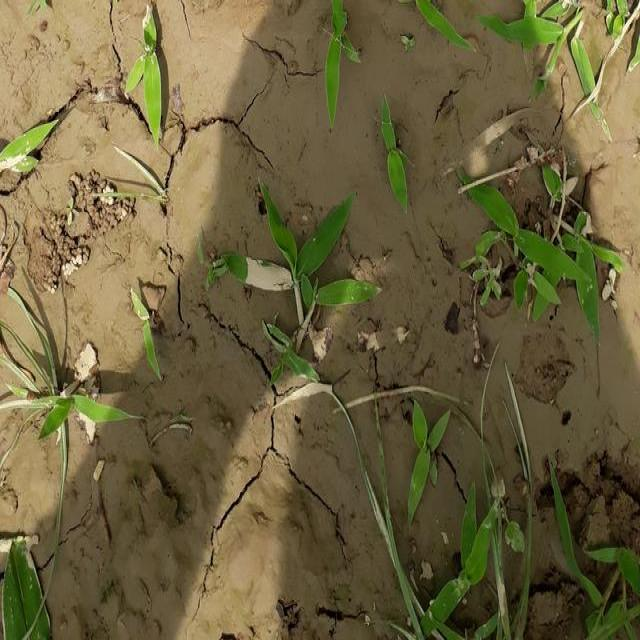weed: (400, 386, 556, 640), (212, 184, 379, 371)
